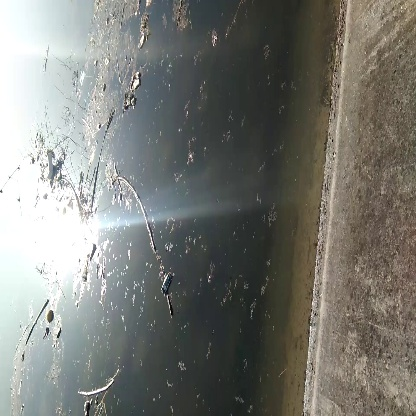branch: (114, 173, 162, 254)
